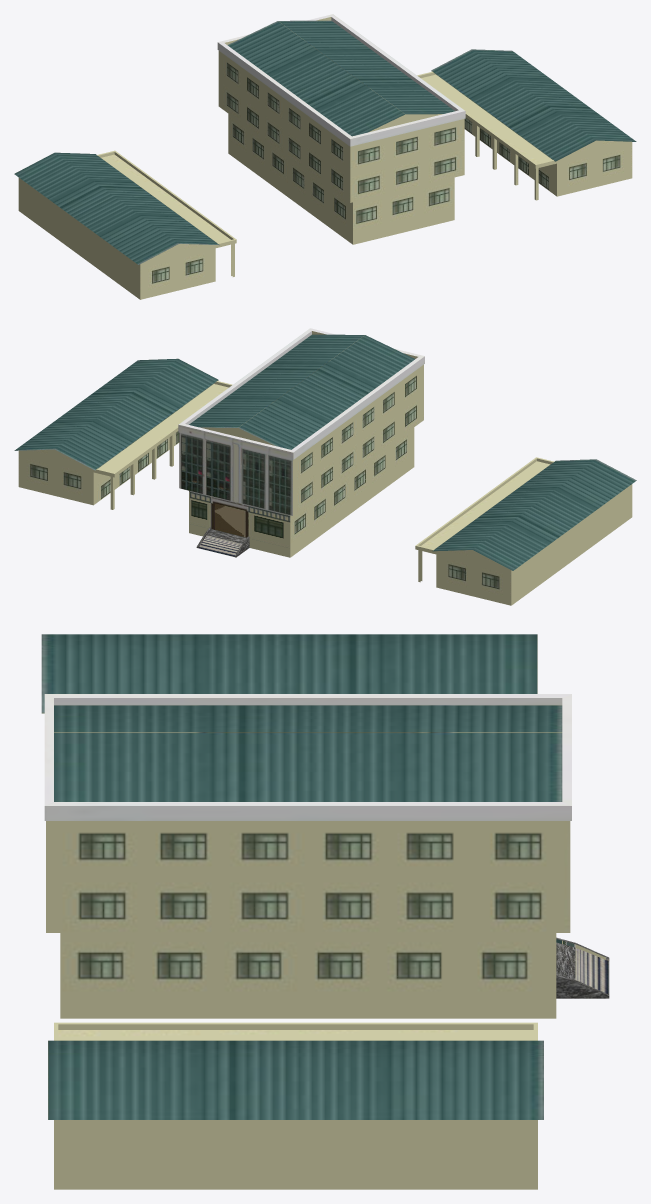
The picture shows the model from 3 angles, top to bottom: view 1: azimuth 30°, elevation 25°; view 2: azimuth 150°, elevation 25°; view 3: azimuth 270°, elevation 25°; orthographic projection. The views are drawn at different scales.
Visible parts, largest first — view 1: 5c73a9419b2f734bcccde52b.001; view 2: 5c73a9419b2f734bcccde52b.001; view 3: 5c73a9419b2f734bcccde52b.001.
Boxes of the visible parts, <box> form: 5c73a9419b2f734bcccde52b.001: <box>14,14,636,299</box>; 5c73a9419b2f734bcccde52b.001: <box>14,328,636,605</box>; 5c73a9419b2f734bcccde52b.001: <box>41,634,609,1189</box>.
Bounding box in the file's own units: 56.96 × 12.99 × 28.13.
Materials: 1 (1 with a texture image).
